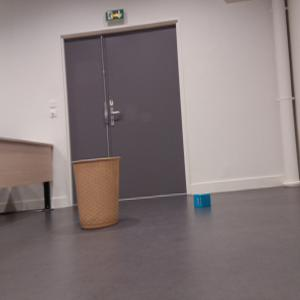medium: (71, 156, 123, 229)
small: (193, 193, 210, 208)
